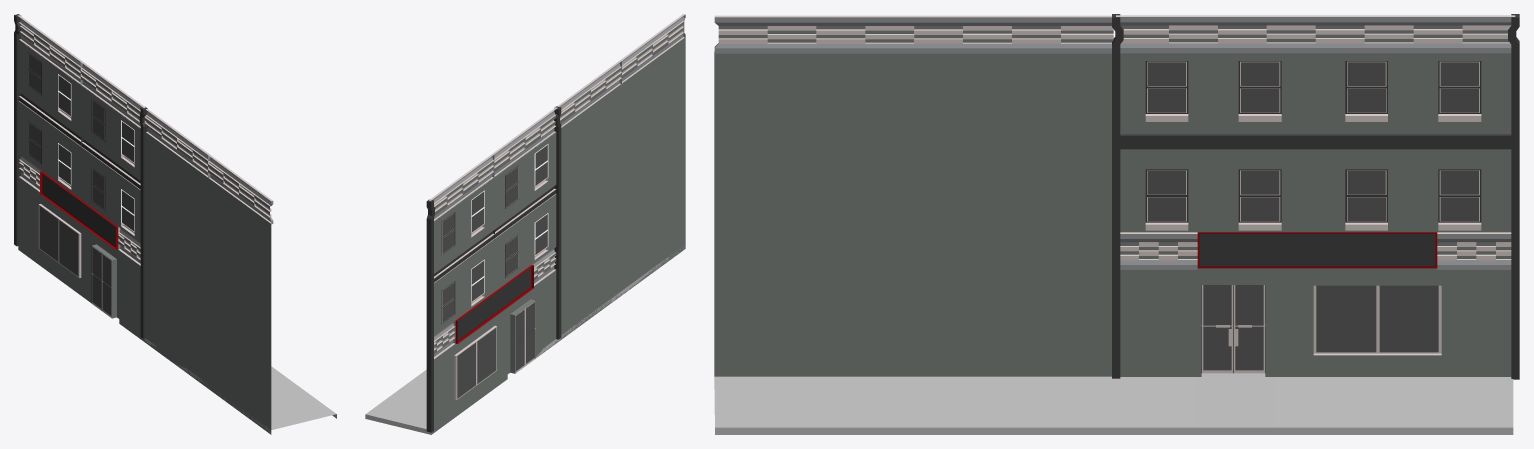
Rendered from Bookstore.glb.
3 renders of one model, left to right at view 1: azimuth 30°, elevation 25°; view 2: azimuth 150°, elevation 25°; view 3: azimuth 270°, elevation 25°, orthographic. The views are drawn at different scales.
Visible parts, largest first — view 1: Plane.067; view 2: Plane.067; view 3: Plane.067.
Part boxes in pixels (box(x1,y1,x2,y2)): Plane.067: box(14, 14, 336, 434); Plane.067: box(365, 14, 685, 434); Plane.067: box(714, 14, 1519, 434).
Bounding box in the file's own units: 3.22 × 10.19 × 20.16.
13 materials, 1 textured.
